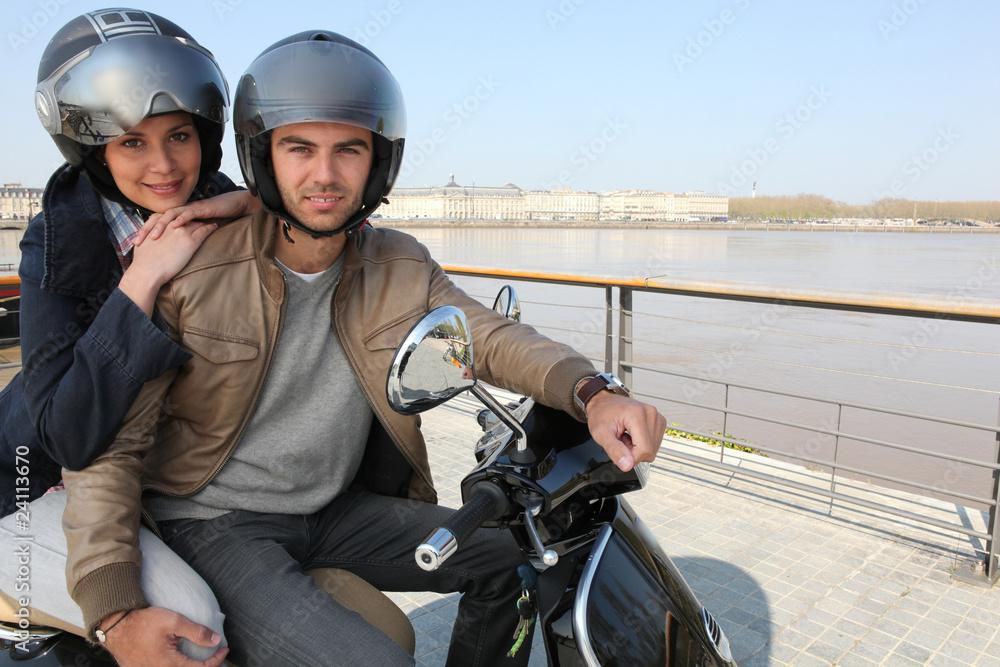helmet: (34, 6, 232, 217), (232, 28, 409, 245)
